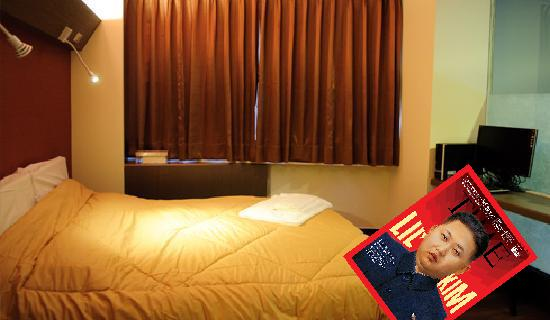times: (341, 163, 537, 319)
